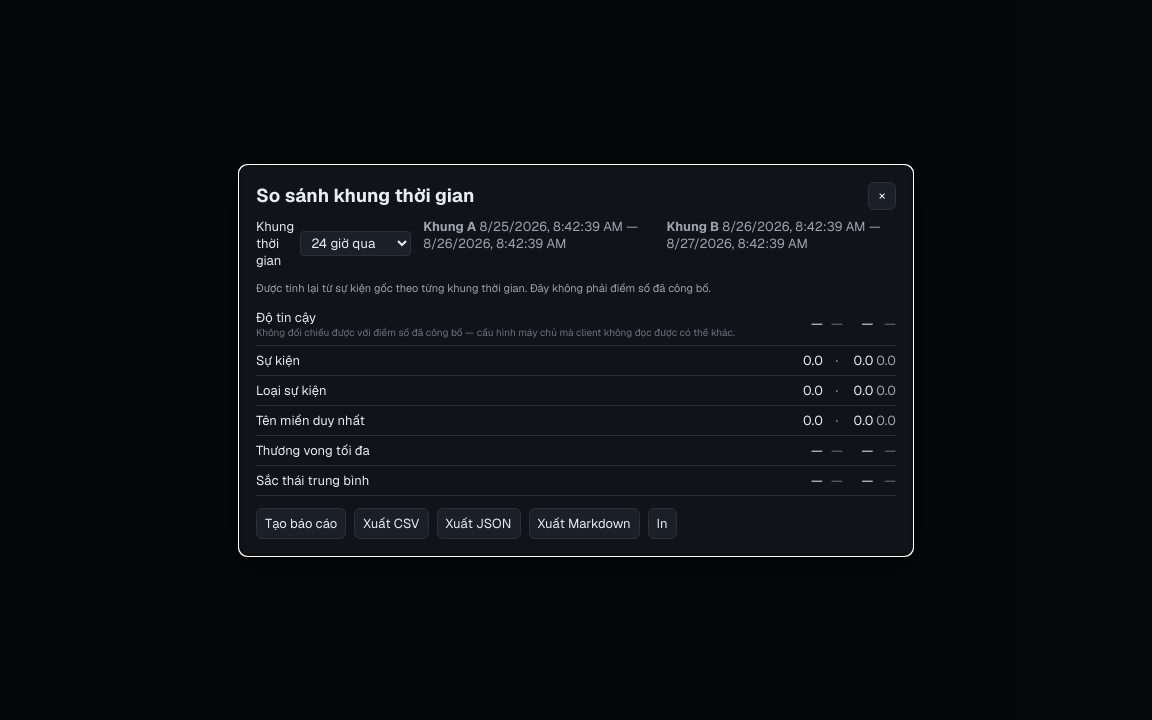
CompareDialog › requests a narrative only when asked
The image size is (1152, 720).
Click the button "Tạo báo cáo": {"x": 301, "y": 523} [256,508,346,538]
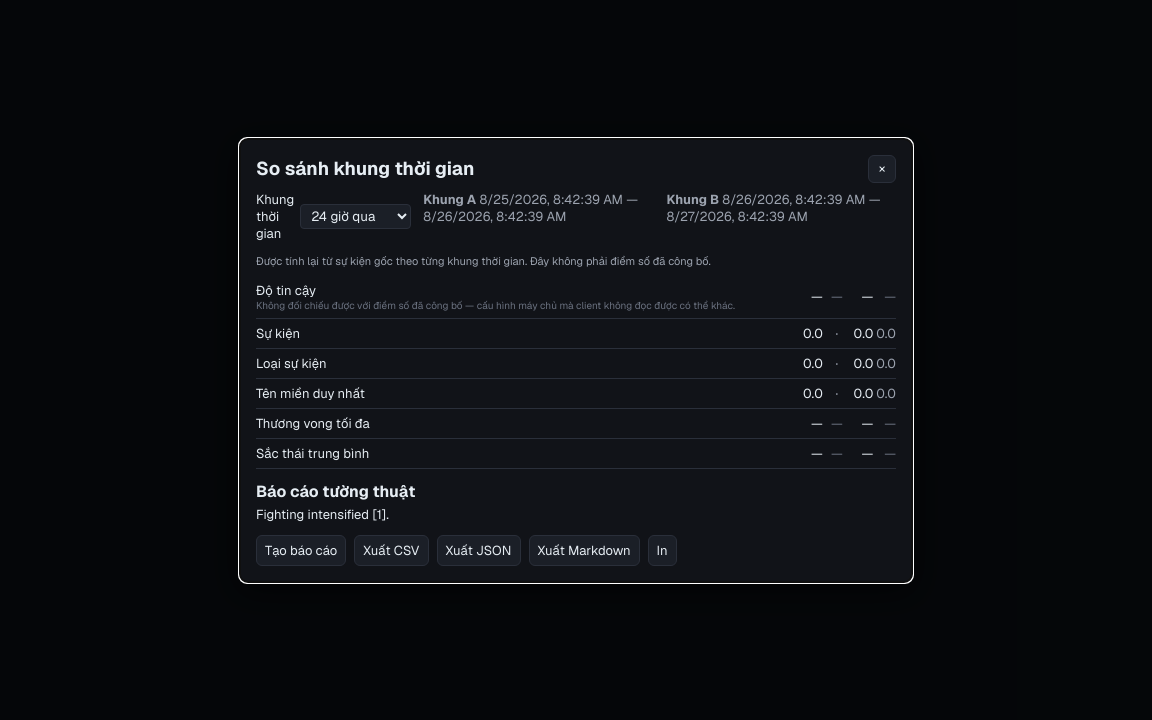
Check: the text "Fighting intensified [1]." is shown, box [256,506,389,522]
